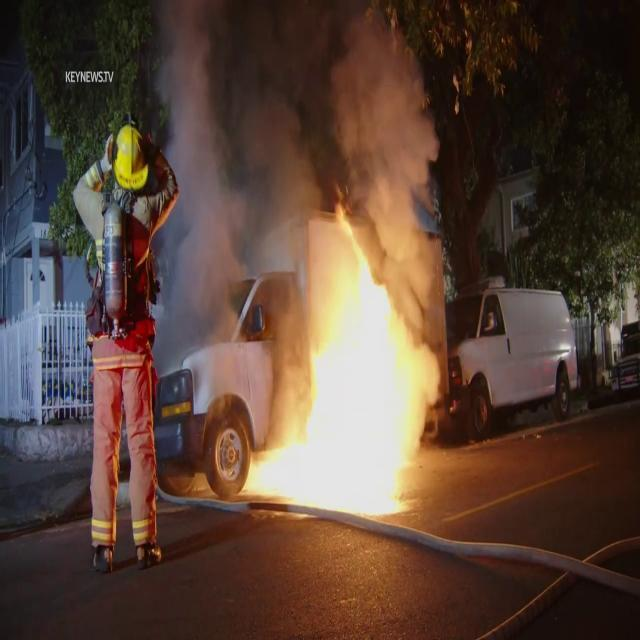Fire: (248, 226, 435, 524)
Smoke: (140, 1, 455, 273)
